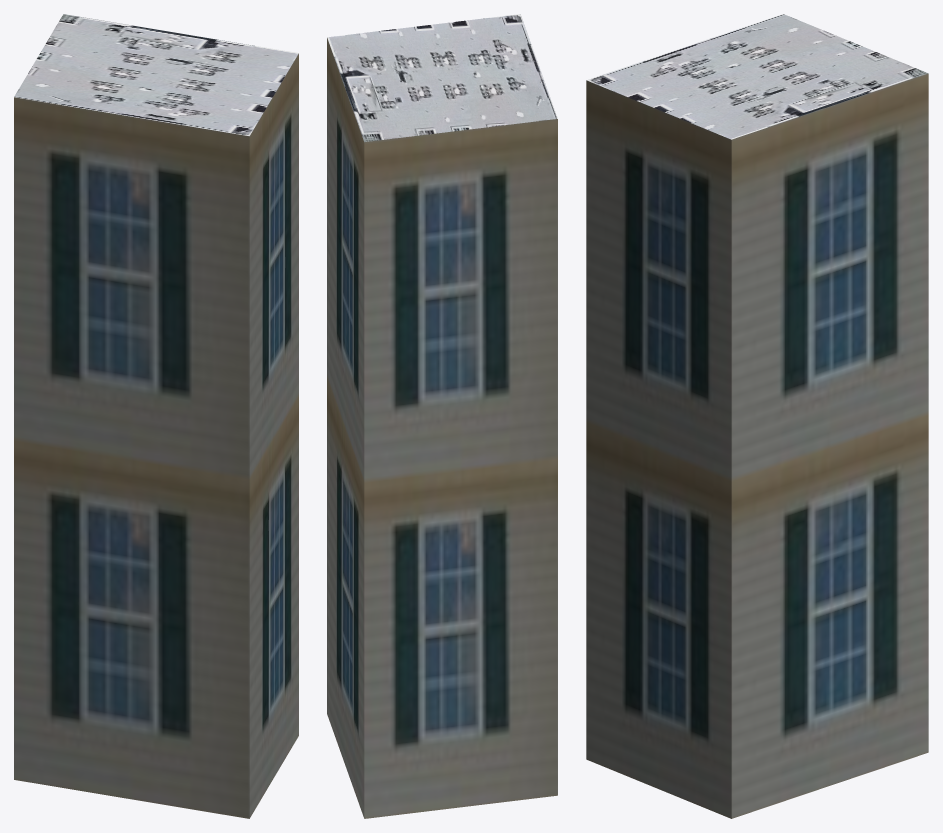
File: ResTex__2361.fbx
3 renders of one model, left to right at view 1: azimuth 30°, elevation 25°; view 2: azimuth 150°, elevation 25°; view 3: azimuth 270°, elevation 25°, orthographic.
Visible parts, largest first — view 1: CityEngineMaterial_7_m, CityEngineMaterial_4_m; view 2: CityEngineMaterial_7_m, CityEngineMaterial_4_m; view 3: CityEngineMaterial_7_m, CityEngineMaterial_4_m.
Boxes of the visible parts, box(x1,y1,x2,y2) form: CityEngineMaterial_7_m: box(14, 53, 298, 818); CityEngineMaterial_4_m: box(14, 14, 298, 136); CityEngineMaterial_7_m: box(327, 38, 557, 818); CityEngineMaterial_4_m: box(327, 14, 557, 141); CityEngineMaterial_7_m: box(586, 73, 928, 818); CityEngineMaterial_4_m: box(587, 14, 927, 139).
Size of the model in its own units: 2.38 by 6 by 2.74.
Materials: 2 (2 with a texture image).
